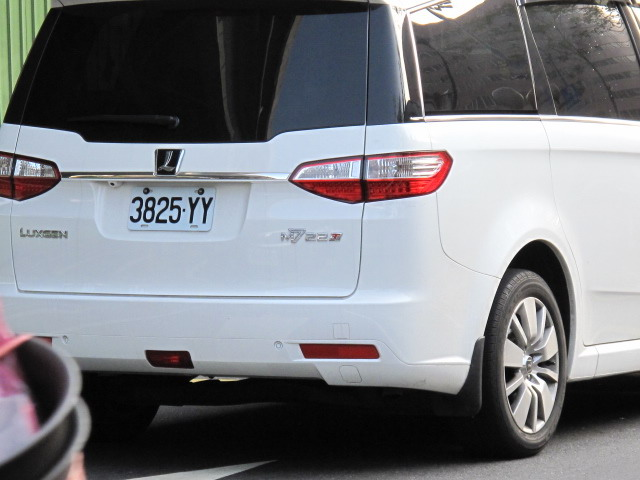plate: (125, 182, 217, 231)
